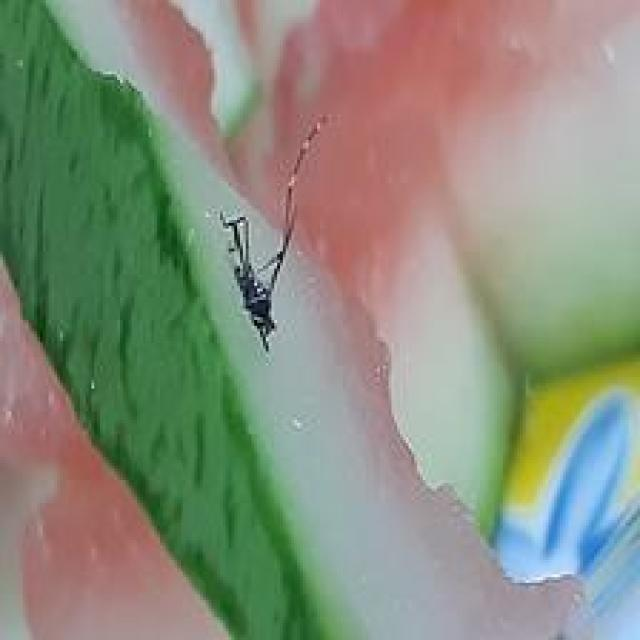Aedes albopictus: (217, 113, 329, 353)
